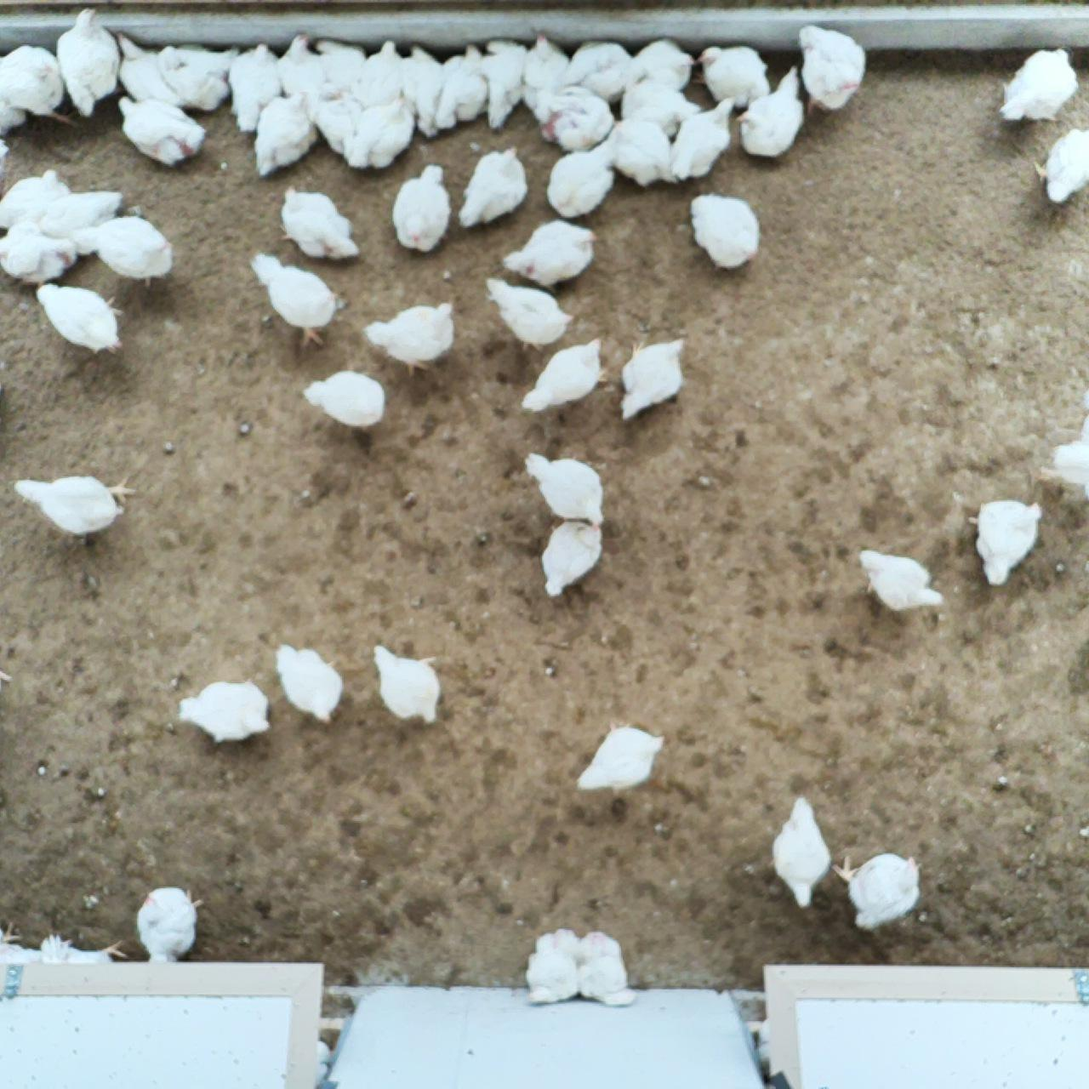chicken: (248, 250, 345, 349), (11, 468, 137, 536), (0, 37, 82, 134), (519, 335, 614, 418), (834, 846, 923, 933), (370, 640, 450, 734), (364, 295, 461, 372), (484, 277, 582, 353), (32, 279, 127, 357), (519, 446, 609, 528), (769, 792, 830, 912), (113, 33, 202, 115), (499, 218, 602, 288), (89, 215, 180, 294), (573, 719, 667, 794), (172, 677, 274, 746), (59, 5, 119, 122), (854, 541, 946, 616), (115, 95, 210, 167), (794, 25, 866, 118), (736, 67, 808, 160), (971, 496, 1044, 587), (617, 330, 689, 420), (995, 48, 1078, 126), (0, 212, 86, 287), (457, 142, 529, 231), (666, 93, 735, 184), (273, 640, 347, 724), (690, 188, 763, 273), (564, 922, 635, 1009), (277, 186, 358, 261), (547, 137, 619, 220), (340, 36, 413, 115), (475, 37, 539, 127), (390, 163, 453, 253), (153, 48, 235, 117), (615, 78, 703, 142), (140, 885, 206, 970), (252, 92, 319, 175), (537, 84, 613, 157), (30, 188, 122, 248), (345, 93, 416, 169), (227, 40, 283, 136), (540, 519, 607, 599), (398, 44, 450, 146), (300, 370, 385, 432), (697, 43, 772, 113), (521, 927, 583, 1009), (614, 34, 698, 94), (435, 40, 489, 131), (563, 42, 637, 108), (608, 115, 674, 188), (1031, 125, 1089, 206), (522, 33, 573, 124), (0, 167, 71, 226), (311, 39, 371, 104), (278, 29, 325, 108), (314, 88, 369, 155), (1045, 420, 1089, 493), (166, 40, 245, 80), (41, 937, 130, 971), (0, 926, 66, 968)
